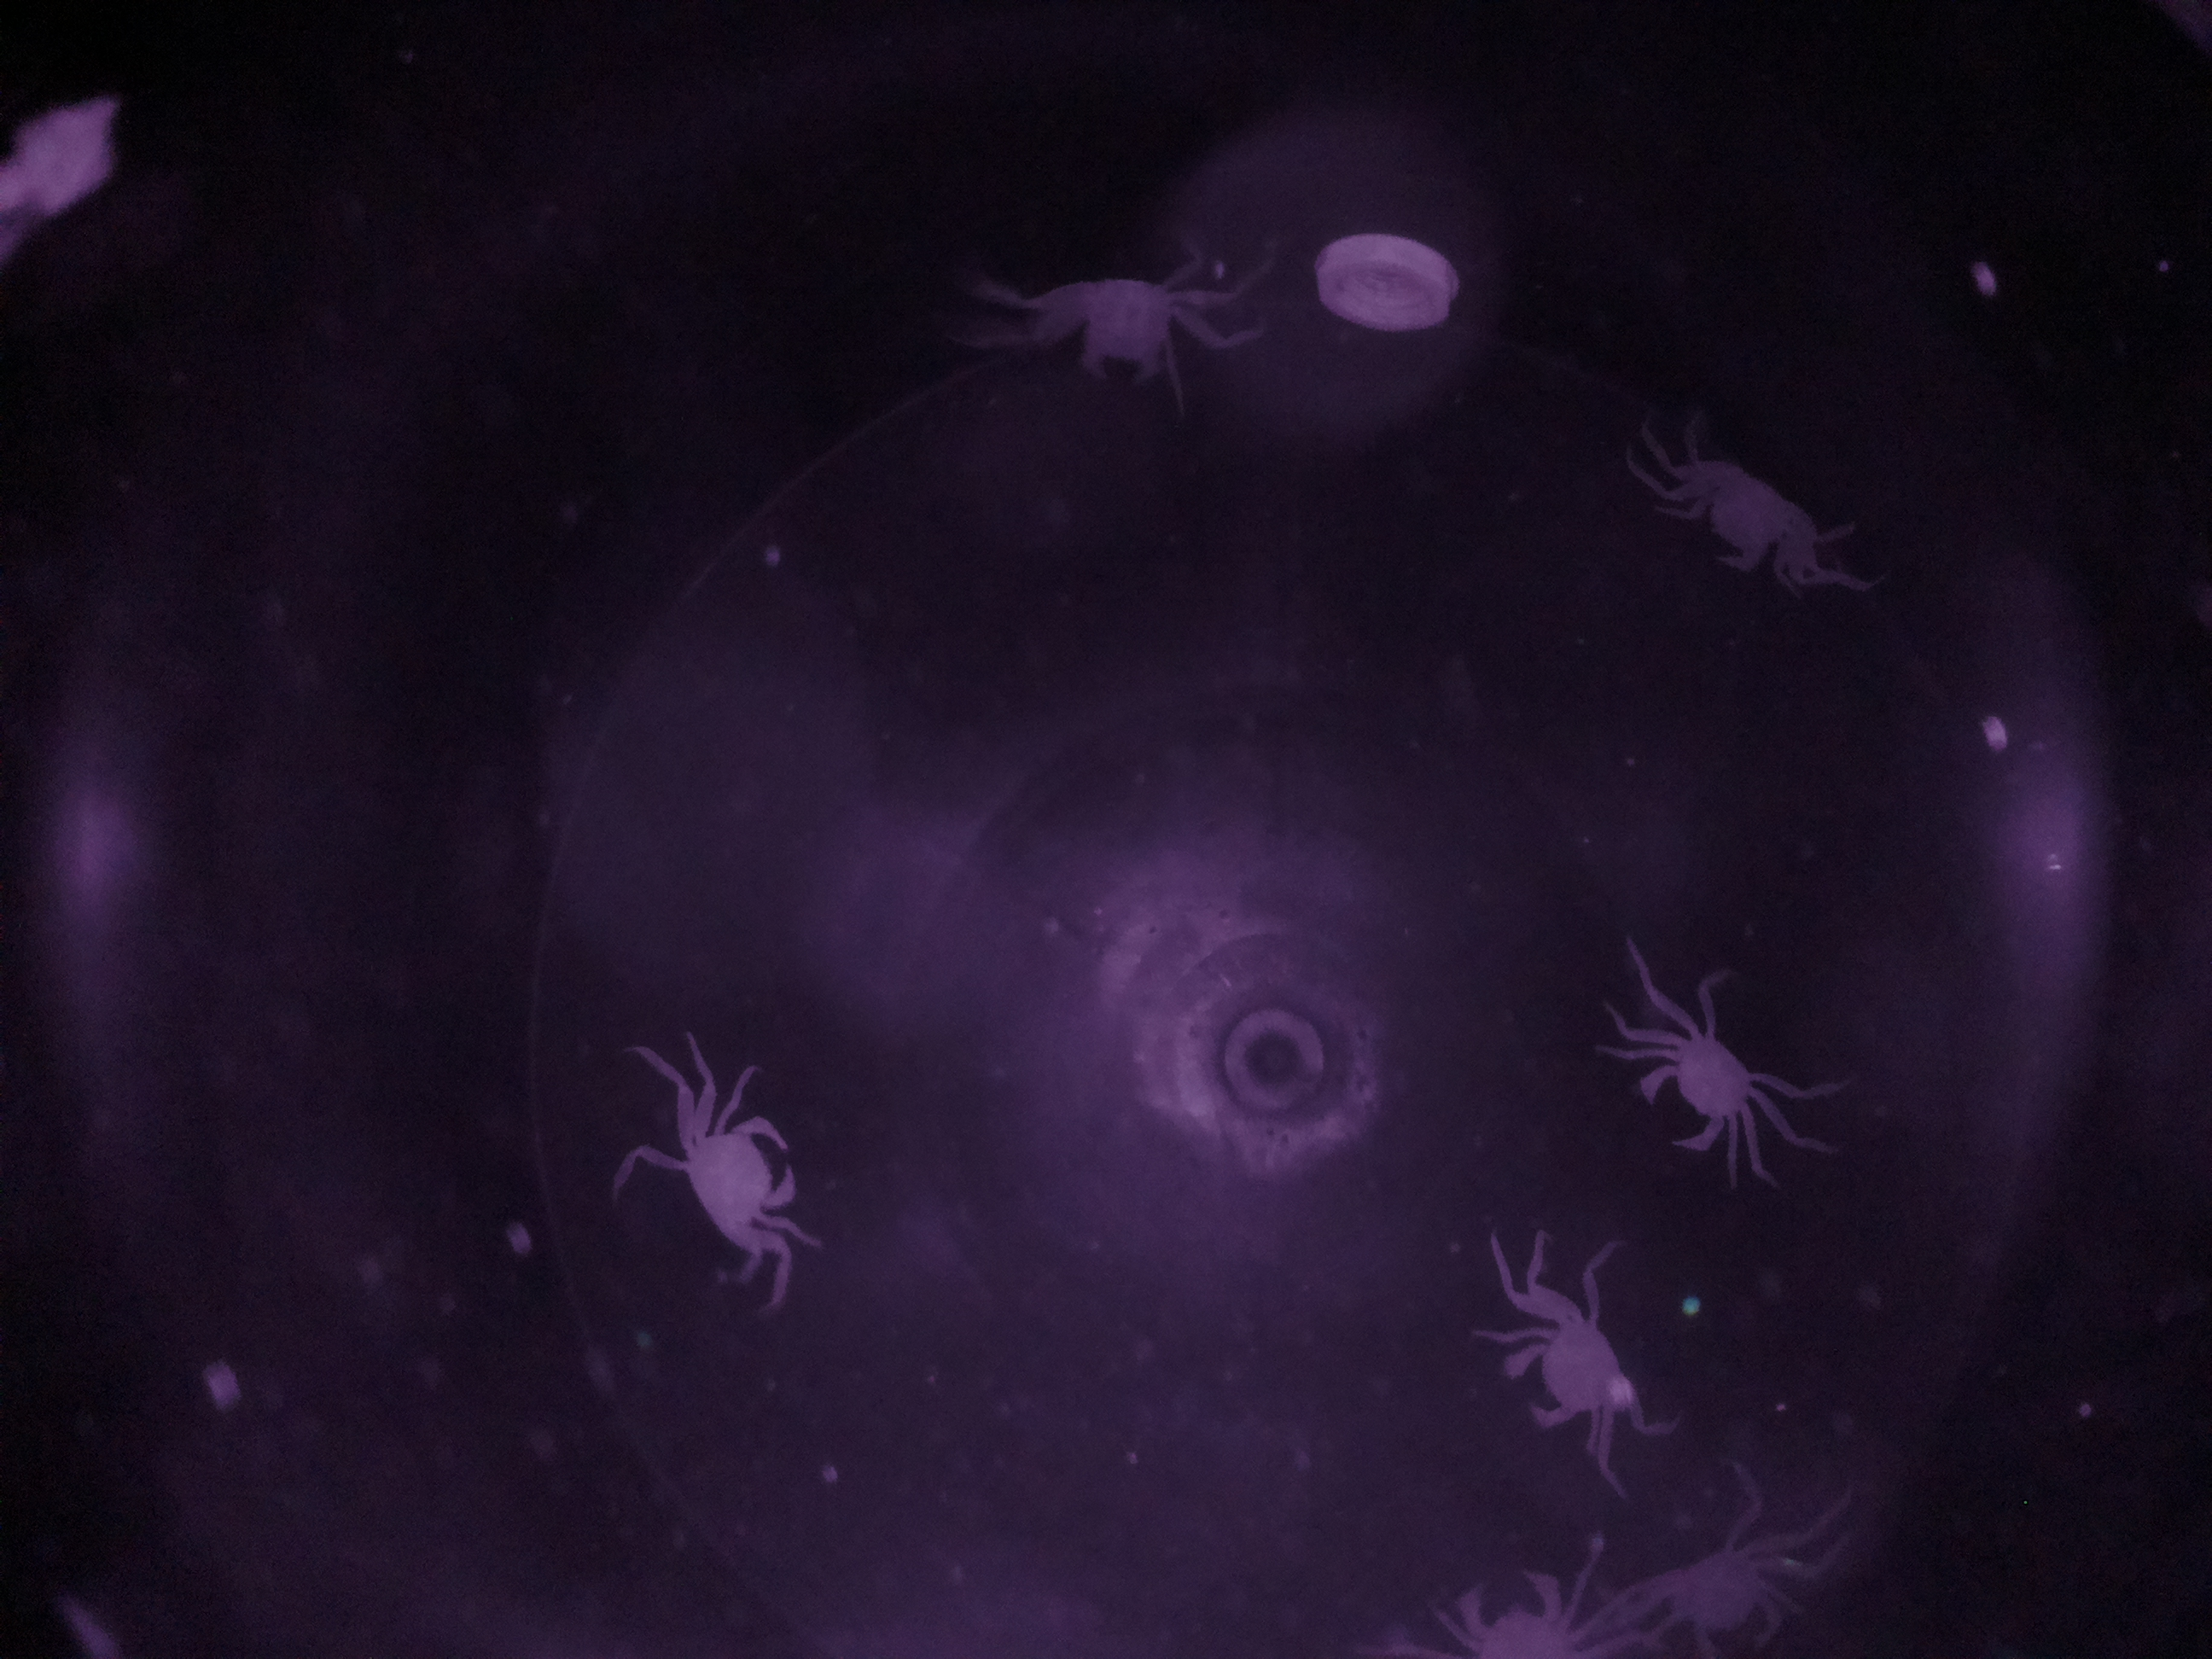Crab: (1616, 995, 1780, 1183), (1663, 450, 1850, 603), (658, 1096, 808, 1286), (1494, 1298, 1658, 1445)
